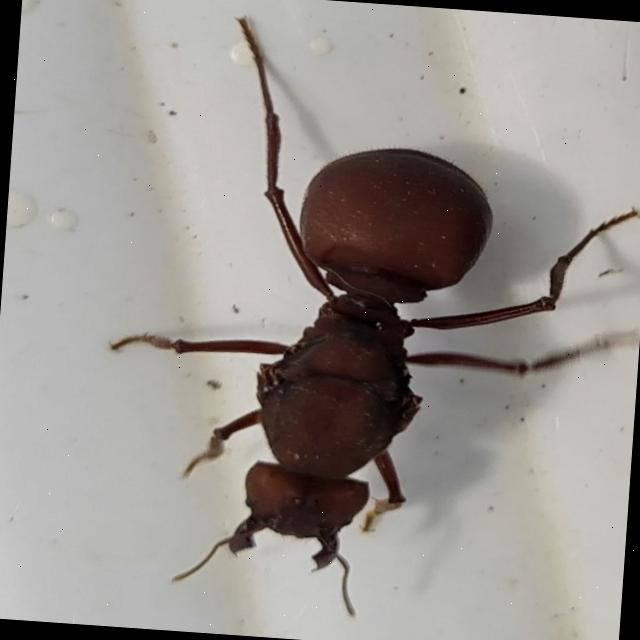Alive-Female-Dealate: (92, 9, 640, 635)
